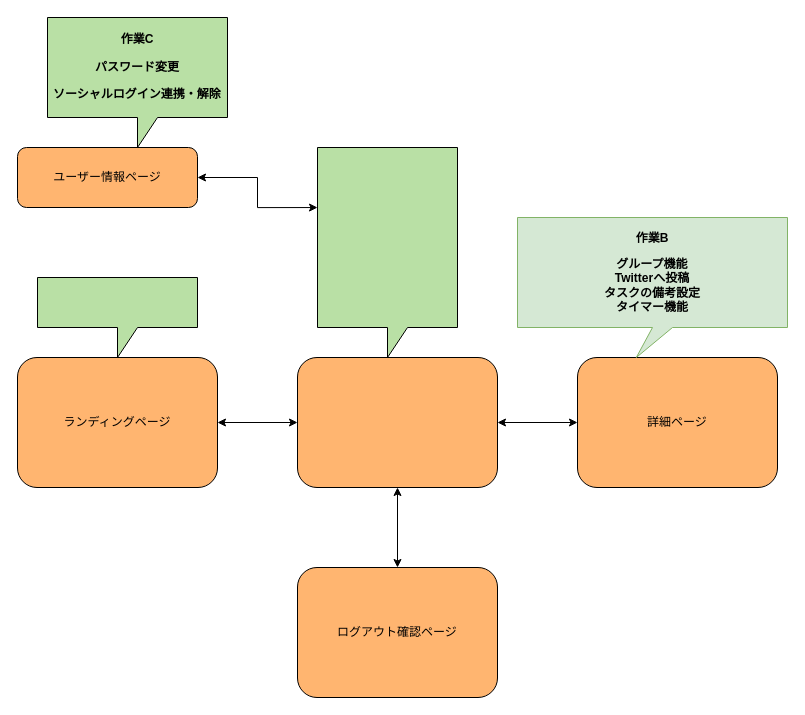
The diagram is 805 pixels wide and 715 high, and some of its shapes have lost their labels. Each missing label, with the centre of its shape:
サービス紹介/ログイン/登録: the point at 117,317
メインページ: the point at 397,422
作業A ナビゲーションバー ToDo一覧表示 追加・削除・状態変更 いいね機能 レーティング機能 カテゴリ・ソート機能 フィルター機能 追加日と完了日の表示: the point at 387,252
